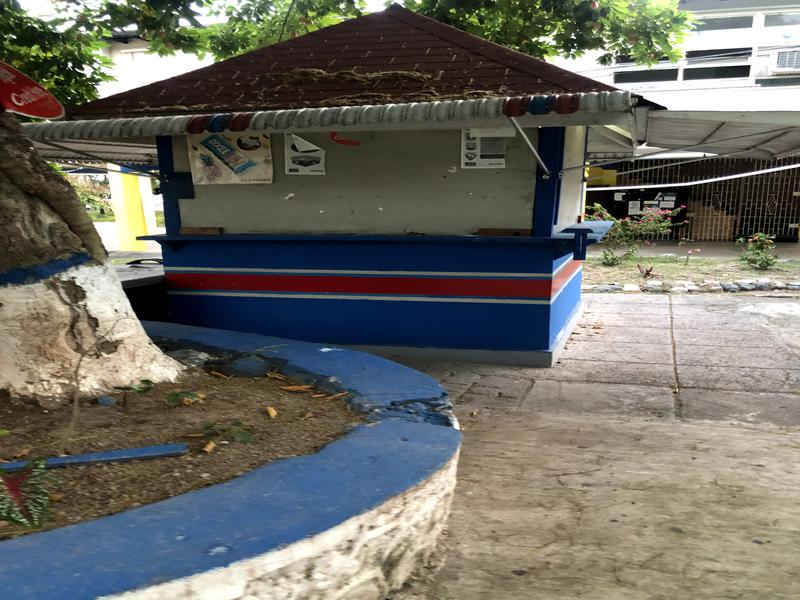18.0050609_-76.7496662_auntyjackie: (48, 3, 688, 394)
